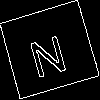N: (24, 25, 71, 80)
